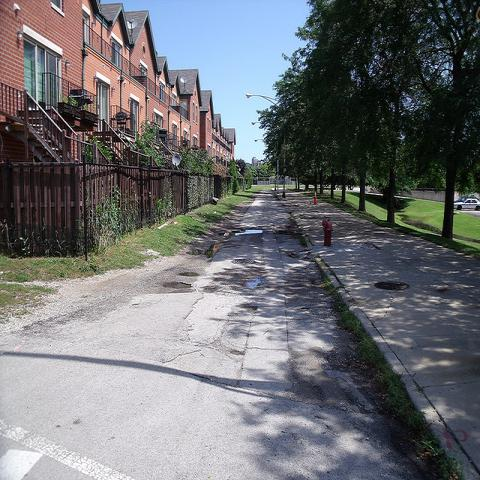car: (453, 199, 480, 212)
